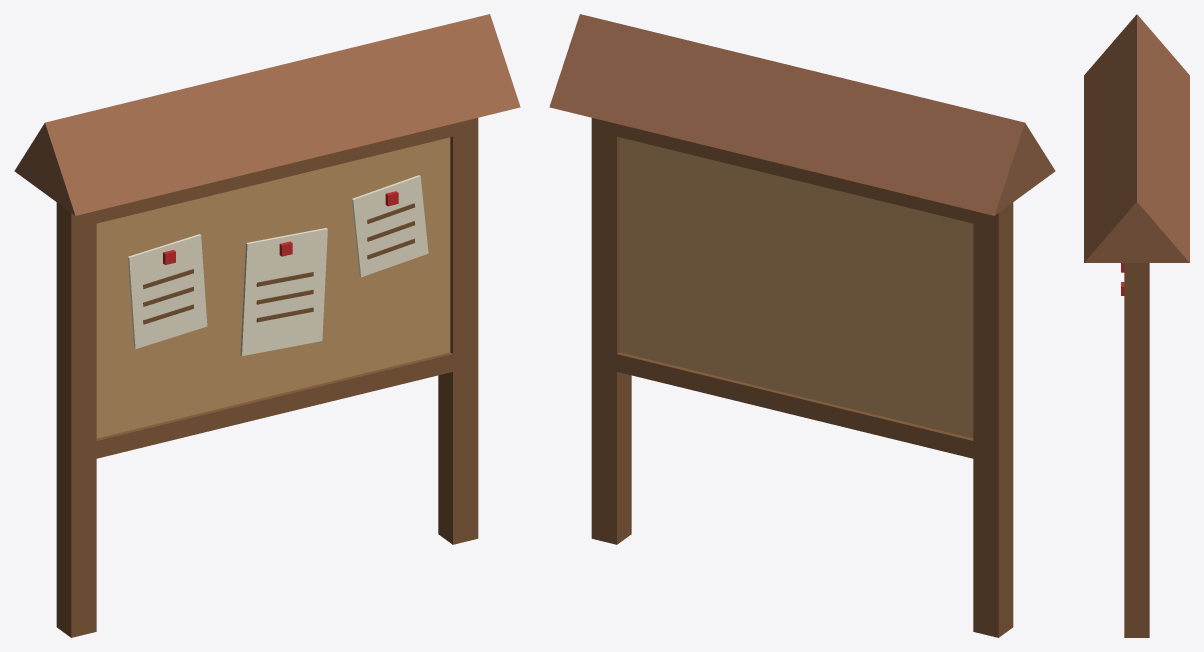
The model's file is order_board.obj.
3 renders of one model, left to right at view 1: azimuth 30°, elevation 25°; view 2: azimuth 150°, elevation 25°; view 3: azimuth 270°, elevation 25°, orthographic. The views are drawn at different scales.
Parts seen in each view (by area): view 1: frame, papers; view 2: frame; view 3: frame.
Part boxes in pixels (x1,y1,x2,y2): frame: [14, 14, 520, 637]; papers: [128, 175, 428, 355]; frame: [549, 14, 1055, 637]; frame: [1084, 14, 1189, 637].
Size of the model in its own units: 2.1 by 2.32 by 0.5.
